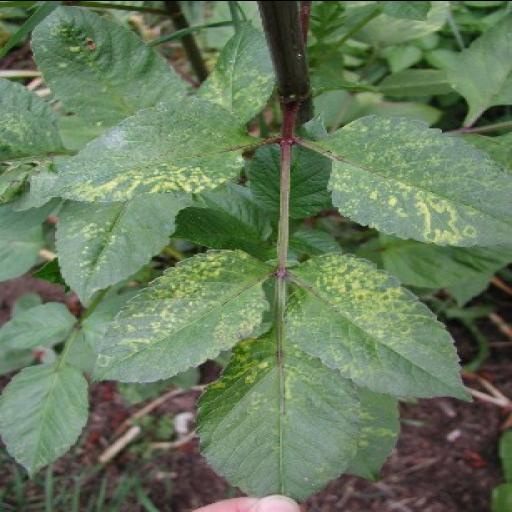Mosaic Virus: (284, 250, 474, 404), (310, 114, 507, 250), (88, 250, 274, 386), (47, 100, 272, 208)
